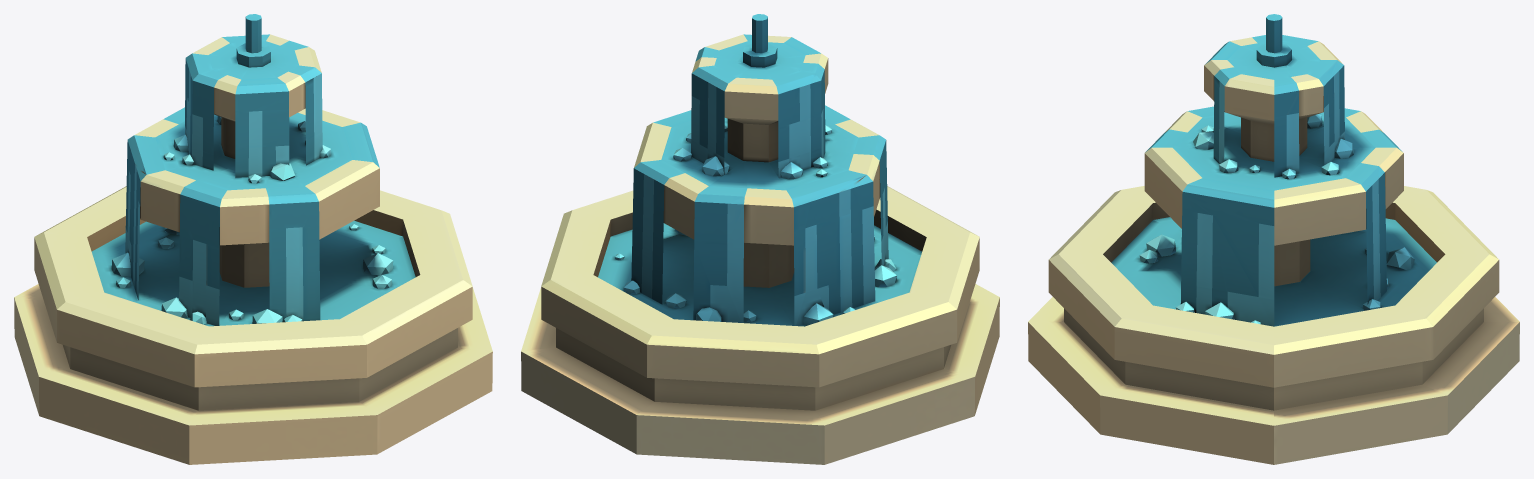
File: fountain-opt.glb
3 views of the same model, side by side, from view 1: azimuth 30°, elevation 25°; view 2: azimuth 150°, elevation 25°; view 3: azimuth 270°, elevation 25° (orthographic).
Parts seen in each view (by area): view 1: fountain; view 2: fountain; view 3: fountain.
Boxes of the visible parts, x1,y1,x2,y2 form: fountain: (14,14,492,464); fountain: (521,14,999,464); fountain: (1028,14,1519,464).
Size of the model in its own units: 1.99 by 1.53 by 1.99.
Materials: 1 (1 with a texture image).
